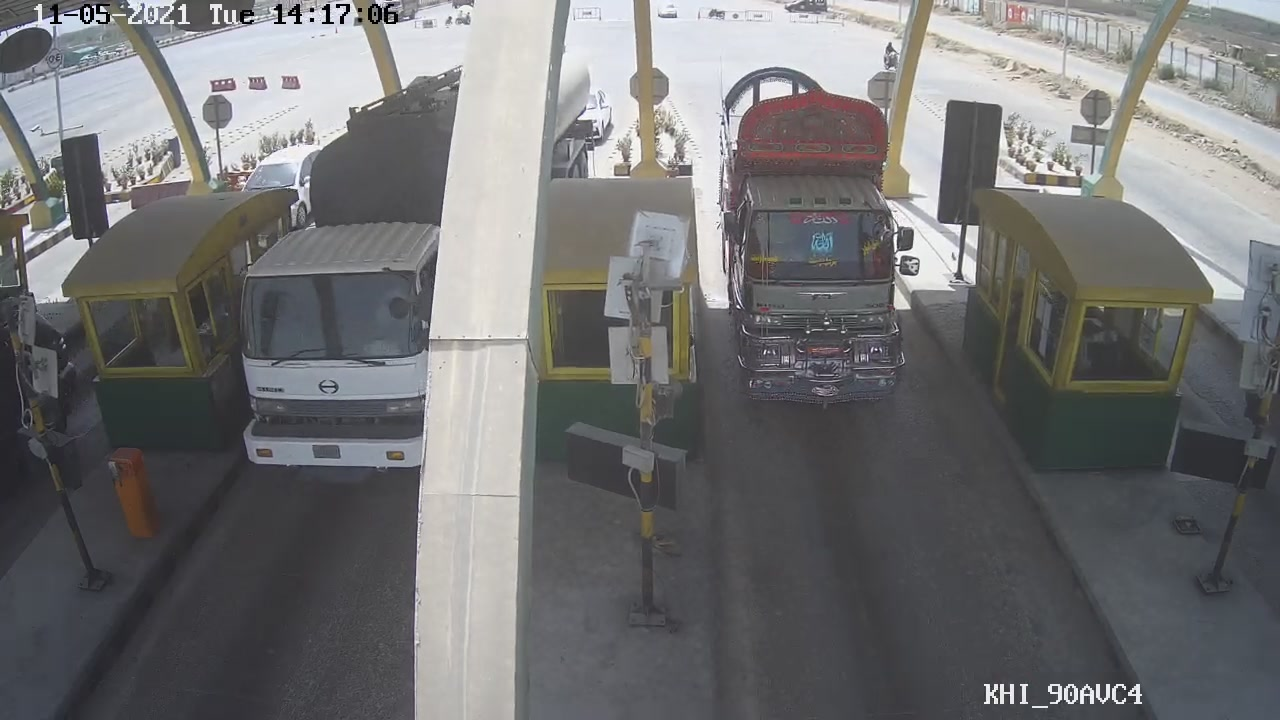F5: (708, 93, 919, 415)
